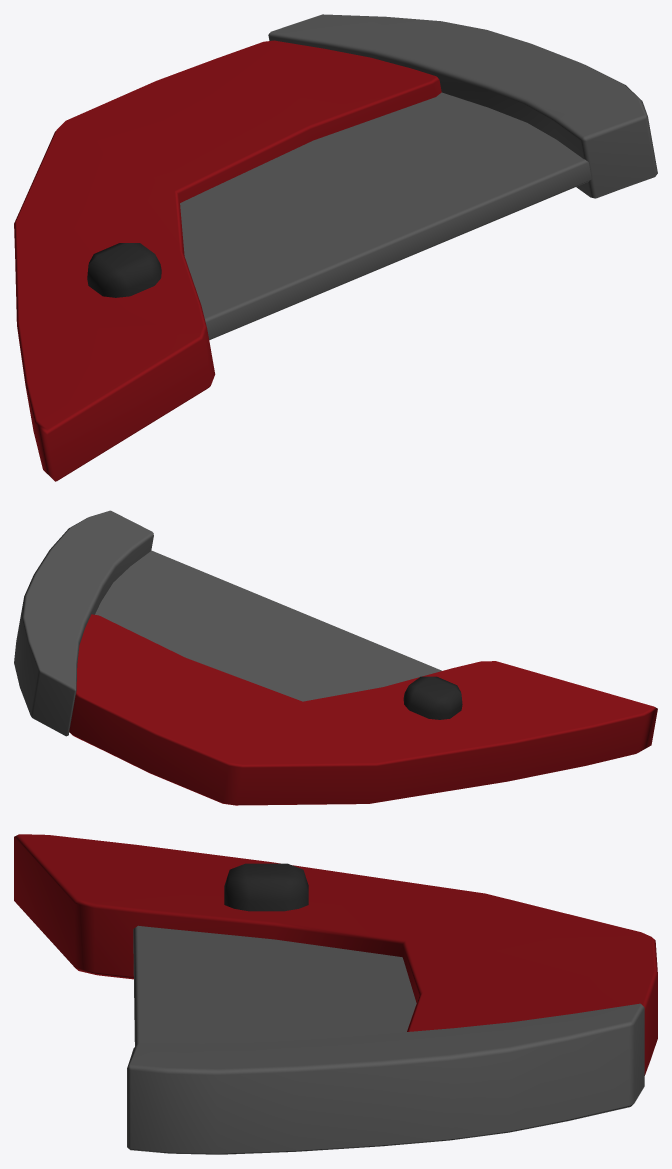
Rendered from Ship_enemy_01_Wing_R.fbx.
The picture shows the model from 3 angles, top to bottom: view 1: azimuth 30°, elevation 25°; view 2: azimuth 150°, elevation 25°; view 3: azimuth 270°, elevation 25°; orthographic projection. The views are drawn at different scales.
Parts seen in each view (by area): view 1: Ship_enemy_01_Wing_R; view 2: Ship_enemy_01_Wing_R; view 3: Ship_enemy_01_Wing_R.
Part boxes in pixels (bbox=[...]): Ship_enemy_01_Wing_R: bbox=[14, 14, 657, 481]; Ship_enemy_01_Wing_R: bbox=[14, 510, 657, 805]; Ship_enemy_01_Wing_R: bbox=[14, 834, 657, 1154].
Bounding box in the file's own units: 236 × 60.85 × 161.
